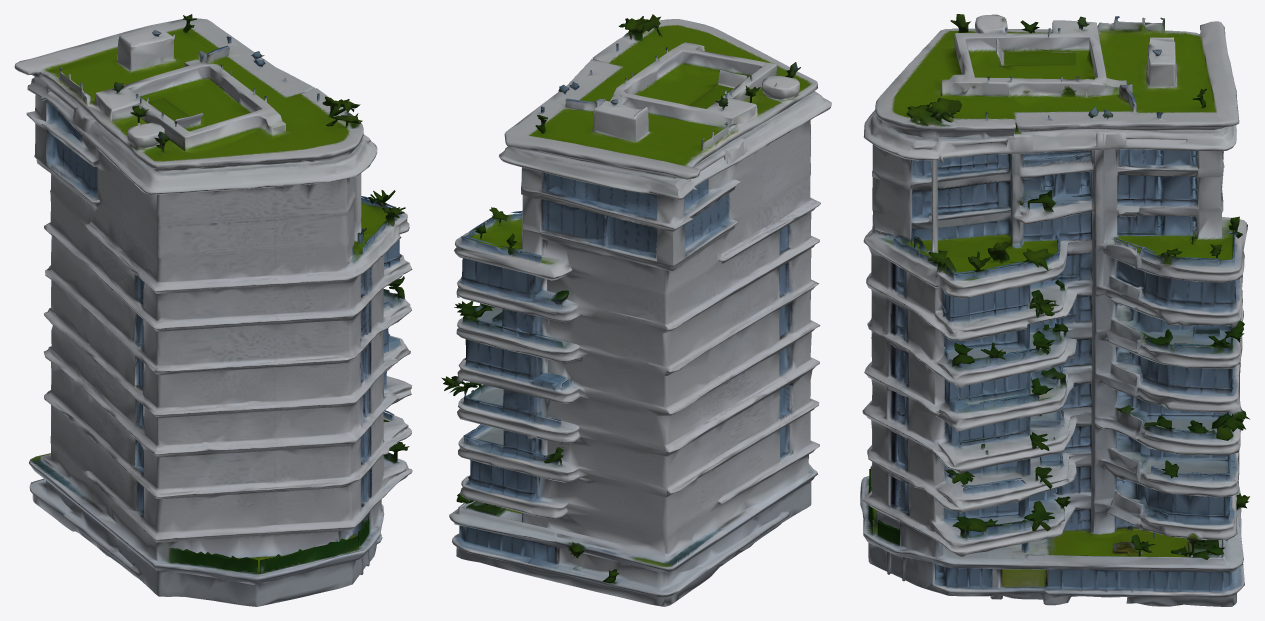
The model's file is immeuble.glb.
3 renders of one model, left to right at view 1: azimuth 30°, elevation 25°; view 2: azimuth 150°, elevation 25°; view 3: azimuth 270°, elevation 25°, orthographic. The views are drawn at different scales.
Parts seen in each view (by area): view 1: tripo_node_2560dfbe-63a9-483d-ae7e-1b4ef8d1a1f1; view 2: tripo_node_2560dfbe-63a9-483d-ae7e-1b4ef8d1a1f1; view 3: tripo_node_2560dfbe-63a9-483d-ae7e-1b4ef8d1a1f1.
Boxes of the visible parts, box(x1,y1,x2,y2) form: tripo_node_2560dfbe-63a9-483d-ae7e-1b4ef8d1a1f1: box(14, 14, 412, 606); tripo_node_2560dfbe-63a9-483d-ae7e-1b4ef8d1a1f1: box(441, 14, 831, 606); tripo_node_2560dfbe-63a9-483d-ae7e-1b4ef8d1a1f1: box(860, 14, 1249, 606).
Size of the model in its own units: 0.6087 by 1 by 0.7176.
1 material, 1 textured.
